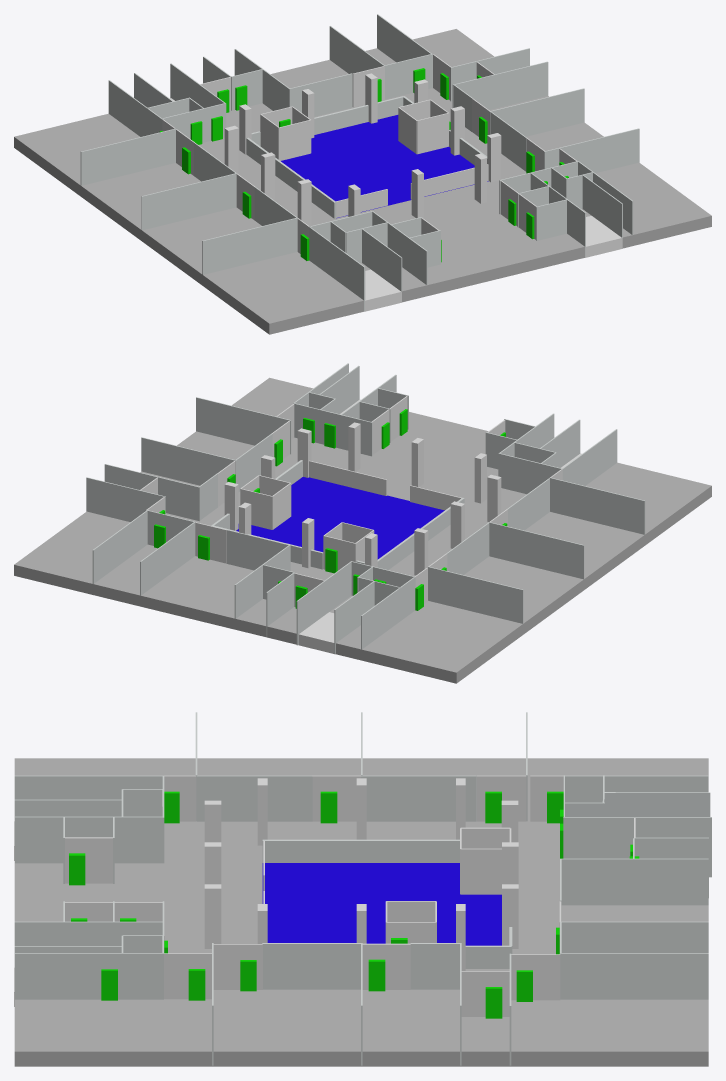
File: SecondFloor3m.fbx
The picture shows the model from 3 angles, top to bottom: view 1: azimuth 30°, elevation 25°; view 2: azimuth 150°, elevation 25°; view 3: azimuth 270°, elevation 25°; orthographic projection. The views are drawn at different scales.
Parts seen in each view (by area): view 1: Cube, Cube.001, Cube.003, Cube.004, Cube.005, Cube.025, Cube.026, Cube.027, Cube.002, Cube.019, Cube.120, Cube.038 (+41 smaller); view 2: Cube, Cube.001, Cube.005, Cube.003, Cube.004, Cube.027, Cube.026, Cube.025, Cube.023, Cube.014, Cube.020, Cube.021 (+42 smaller); view 3: Cube, Cube.001, Cube.018, Cube.021, Cube.028, Cube.096, Cube.119, Cube.020, Cube.059, Cube.118, Cube.014, Cube.047 (+42 smaller).
Part boxes in pixels (x1=…): Cube: x1=14, y1=29, x2=711, y2=334; Cube.001: x1=281, y1=115, x2=488, y2=218; Cube.003: x1=202, y1=217, x2=297, y2=274; Cube.004: x1=141, y1=173, x2=236, y2=230; Cube.005: x1=80, y1=128, x2=175, y2=185; Cube.025: x1=452, y1=61, x2=548, y2=109; Cube.026: x1=489, y1=88, x2=584, y2=136; Cube.027: x1=544, y1=128, x2=639, y2=173; Cube.002: x1=309, y1=227, x2=365, y2=311; Cube.019: x1=290, y1=73, x2=352, y2=116; Cube.120: x1=108, y1=80, x2=162, y2=136; Cube.038: x1=582, y1=175, x2=622, y2=237; Cube: x1=14, y1=377, x2=711, y2=683; Cube.001: x1=236, y1=477, x2=444, y2=559; Cube.005: x1=428, y1=566, x2=523, y2=623; Cube.003: x1=550, y1=477, x2=645, y2=534; Cube.004: x1=489, y1=522, x2=584, y2=579; Cube.027: x1=196, y1=397, x2=291, y2=454; Cube.026: x1=141, y1=437, x2=236, y2=485; Cube.025: x1=104, y1=464, x2=200, y2=521; Cube.023: x1=86, y1=477, x2=165, y2=521; Cube.014: x1=296, y1=561, x2=351, y2=645; Cube.020: x1=140, y1=521, x2=195, y2=595; Cube.021: x1=92, y1=510, x2=147, y2=583; Cube: x1=14, y1=758, x2=708, y2=1066; Cube.001: x1=262, y1=863, x2=501, y2=945; Cube.018: x1=560, y1=858, x2=708, y2=905; Cube.021: x1=560, y1=953, x2=708, y2=999; Cube.028: x1=15, y1=953, x2=163, y2=999; Cube.096: x1=15, y1=816, x2=163, y2=863; Cube.119: x1=361, y1=775, x2=476, y2=821; Cube.020: x1=560, y1=921, x2=708, y2=952; Cube.059: x1=262, y1=839, x2=459, y2=862; Cube.118: x1=197, y1=775, x2=312, y2=821; Cube.014: x1=563, y1=817, x2=711, y2=877; Cube.047: x1=262, y1=943, x2=360, y2=989.
Bounding box in the file's own units: 4203 × 503 × 4224.
